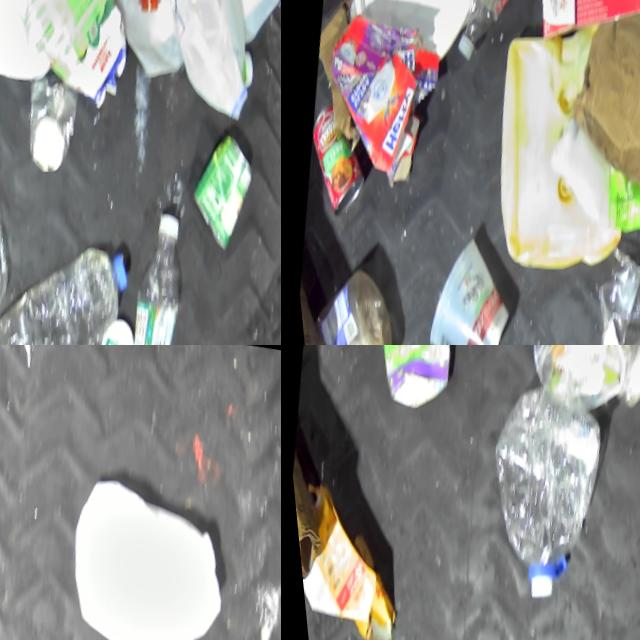can: (173, 131, 264, 258), (292, 101, 377, 222), (4, 73, 87, 184)
milk_jug: (43, 468, 240, 640), (529, 99, 640, 246), (141, 0, 275, 119), (80, 0, 200, 82), (0, 0, 84, 91)
non_white_jug: (464, 15, 640, 286), (1, 0, 147, 107), (343, 345, 472, 412)
plastic_bottle: (457, 371, 619, 613), (0, 222, 137, 345), (102, 192, 199, 345), (448, 0, 544, 71)
